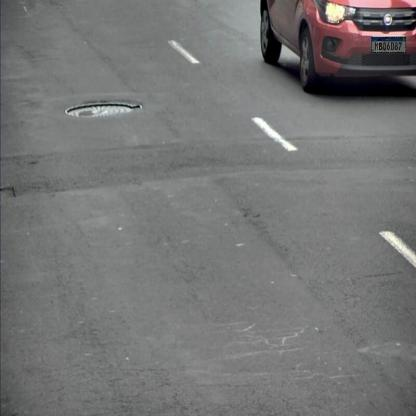PlacaM: (371, 36, 406, 52)
